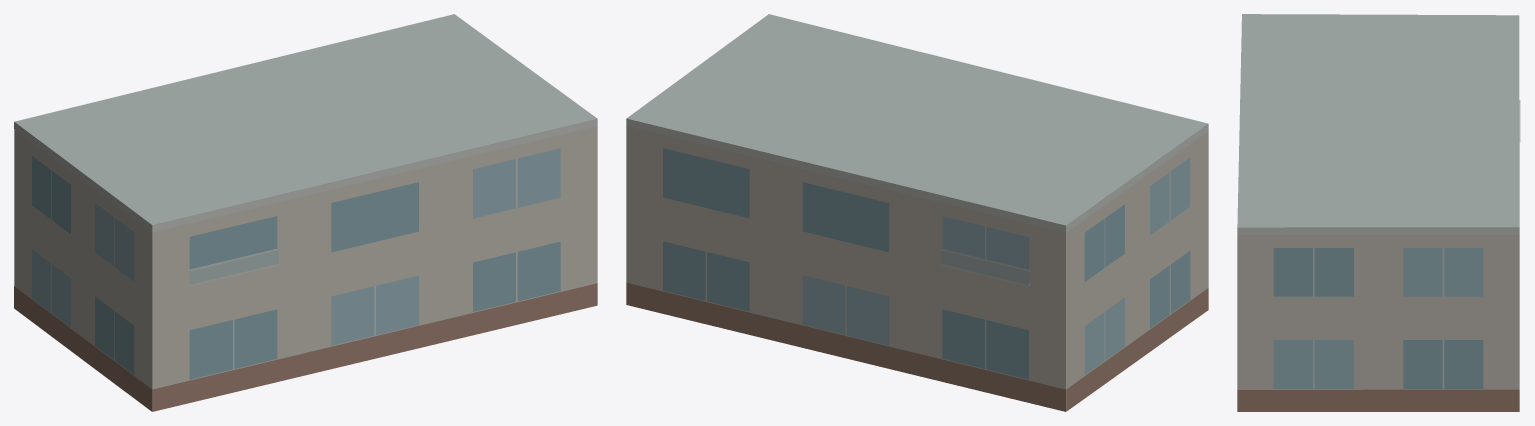
The model's file is survey-upis-32638751.glb.
3 views of the same model, side by side, from view 1: azimuth 30°, elevation 25°; view 2: azimuth 150°, elevation 25°; view 3: azimuth 270°, elevation 25° (orthographic).
Parts seen in each view (by area): view 1: survey-upis-32638751.tmp; view 2: survey-upis-32638751.tmp; view 3: survey-upis-32638751.tmp.
Boxes of the visible parts, x1=… form: survey-upis-32638751.tmp: x1=14, y1=14, x2=597, y2=411; survey-upis-32638751.tmp: x1=626, y1=14, x2=1208, y2=411; survey-upis-32638751.tmp: x1=1237, y1=14, x2=1520, y2=411.
Bounding box in the file's own units: 15.16 × 6.1 × 8.5.
